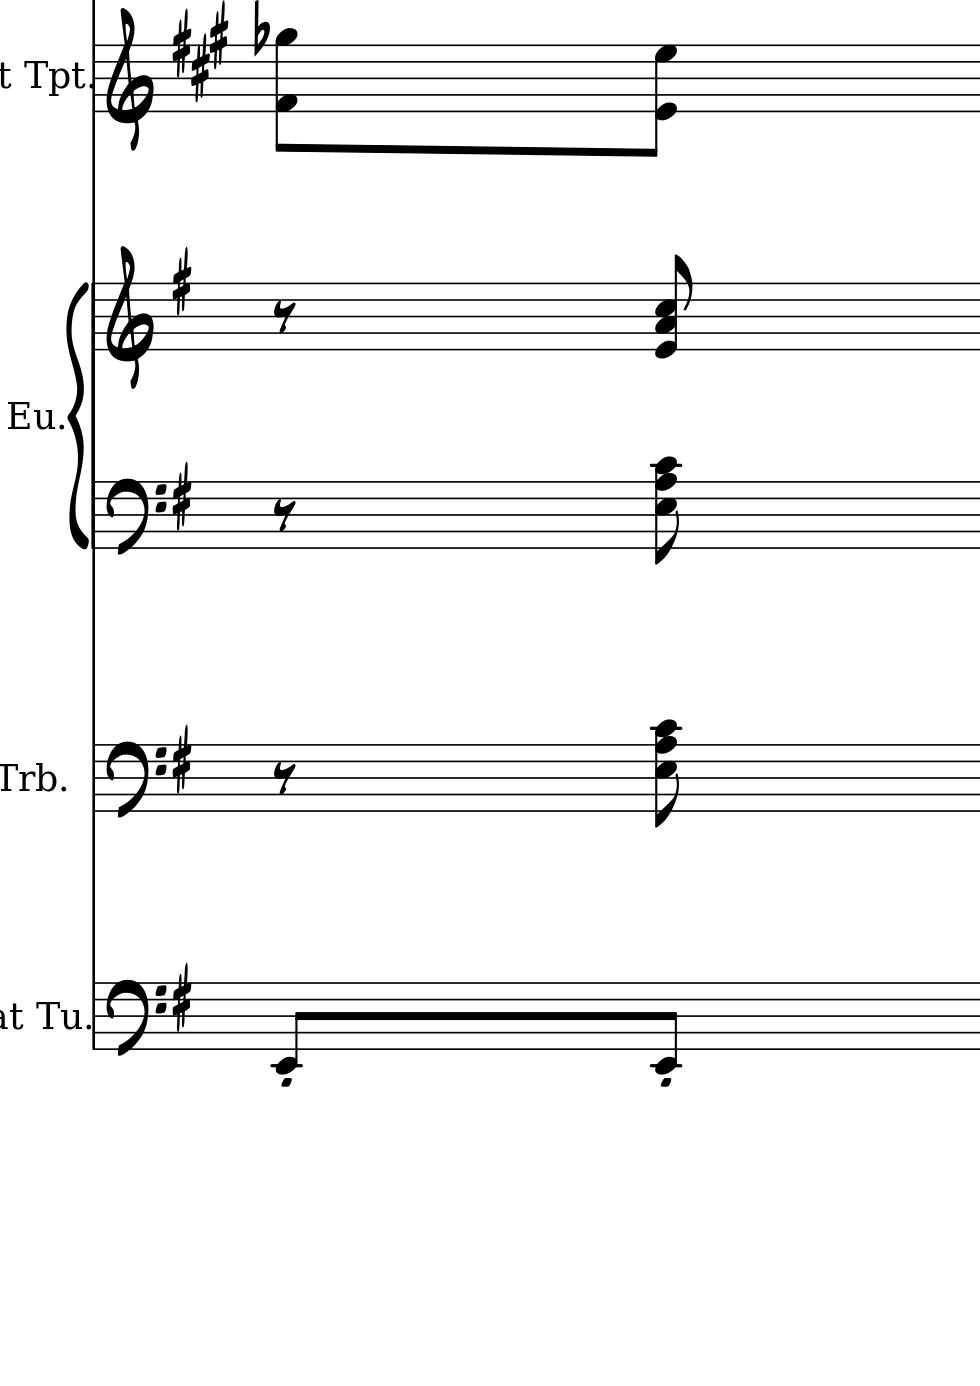8_-2: (269, 979, 308, 1074), (650, 979, 681, 1075)
8_0_7: (647, 42, 678, 158)
8_1_9: (274, 24, 299, 156)
8_th: (651, 249, 693, 363), (648, 715, 683, 830), (649, 451, 682, 569)
A_S: (167, 1, 233, 102)
Brace: (67, 274, 90, 552)
Fclef: (103, 976, 167, 1062), (104, 476, 168, 557), (104, 738, 167, 820)
Flat: (251, 1, 270, 60)
Gclef: (104, 5, 156, 151), (104, 244, 155, 389)
Rests8: (270, 760, 297, 795), (272, 497, 297, 532), (272, 299, 297, 333)
Sharp: (168, 964, 194, 1034), (169, 245, 193, 317), (169, 725, 193, 794), (170, 462, 192, 532)
Single_barline: (86, 745, 102, 811), (87, 983, 102, 1050), (87, 481, 101, 548), (88, 43, 101, 115), (88, 283, 101, 351)
Tpt: (21, 55, 83, 97)
Trb: (1, 757, 58, 800)
